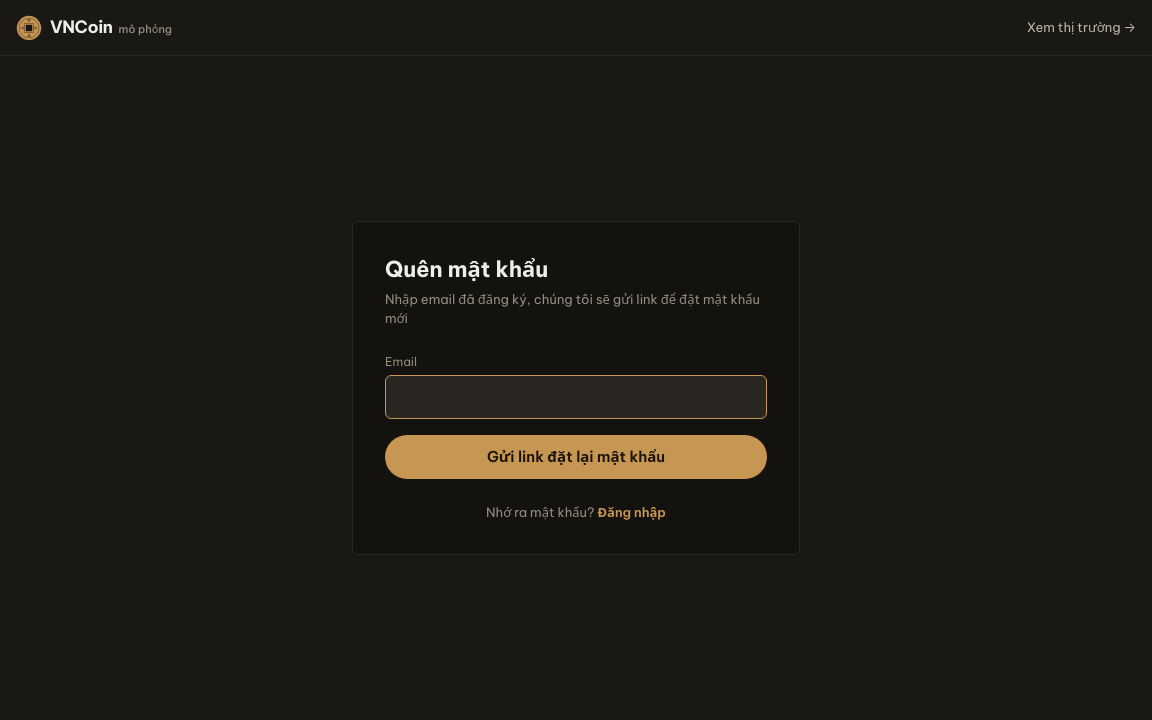
Test case: Quên mật khẩu › báo lỗi email sai định dạng, không gọi API
Type "khong-phai-email" into the field. click: (576, 397)
box: [385,375,767,419]
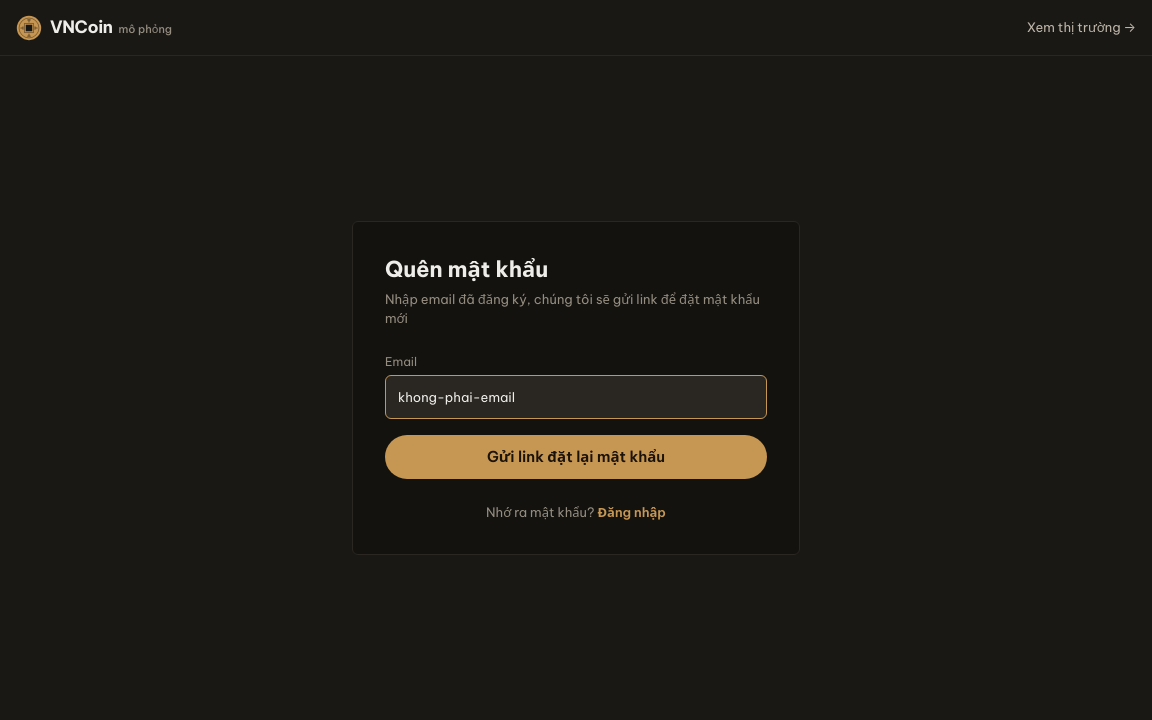
Click the button "Gửi link đặt lại mật khẩu". click: (576, 457)
box: [385,435,767,479]
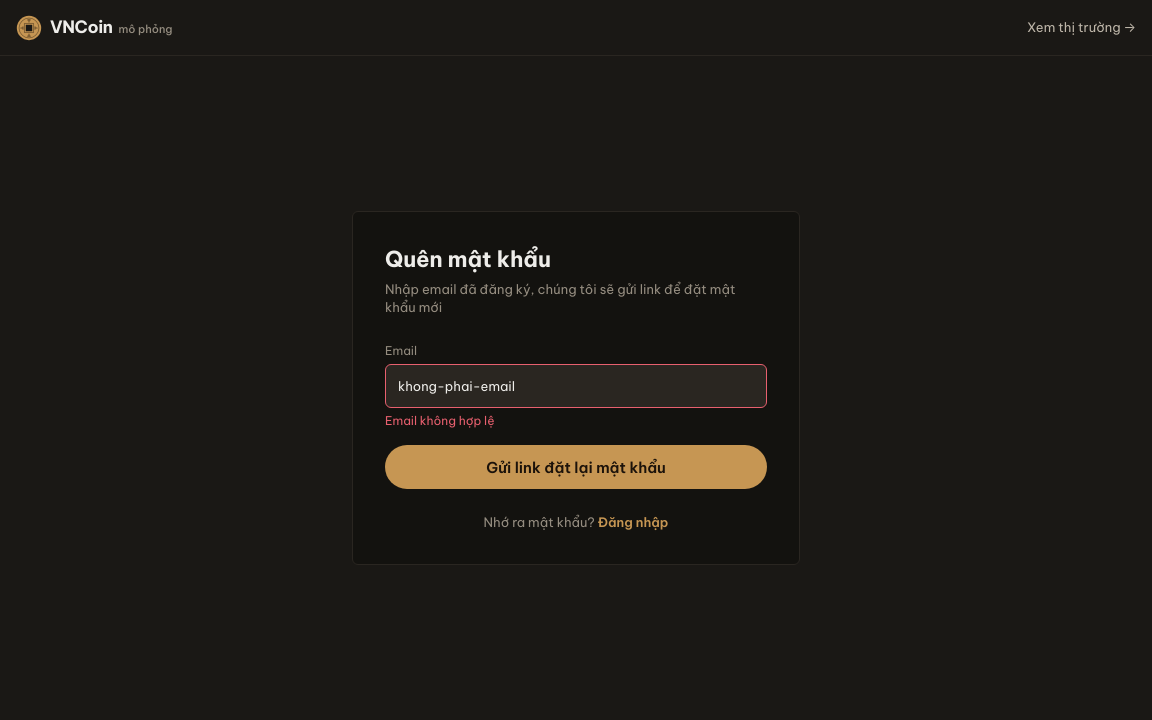
expect the text "Email không hợp lệ" is shown: met, box [385,413,494,428]
